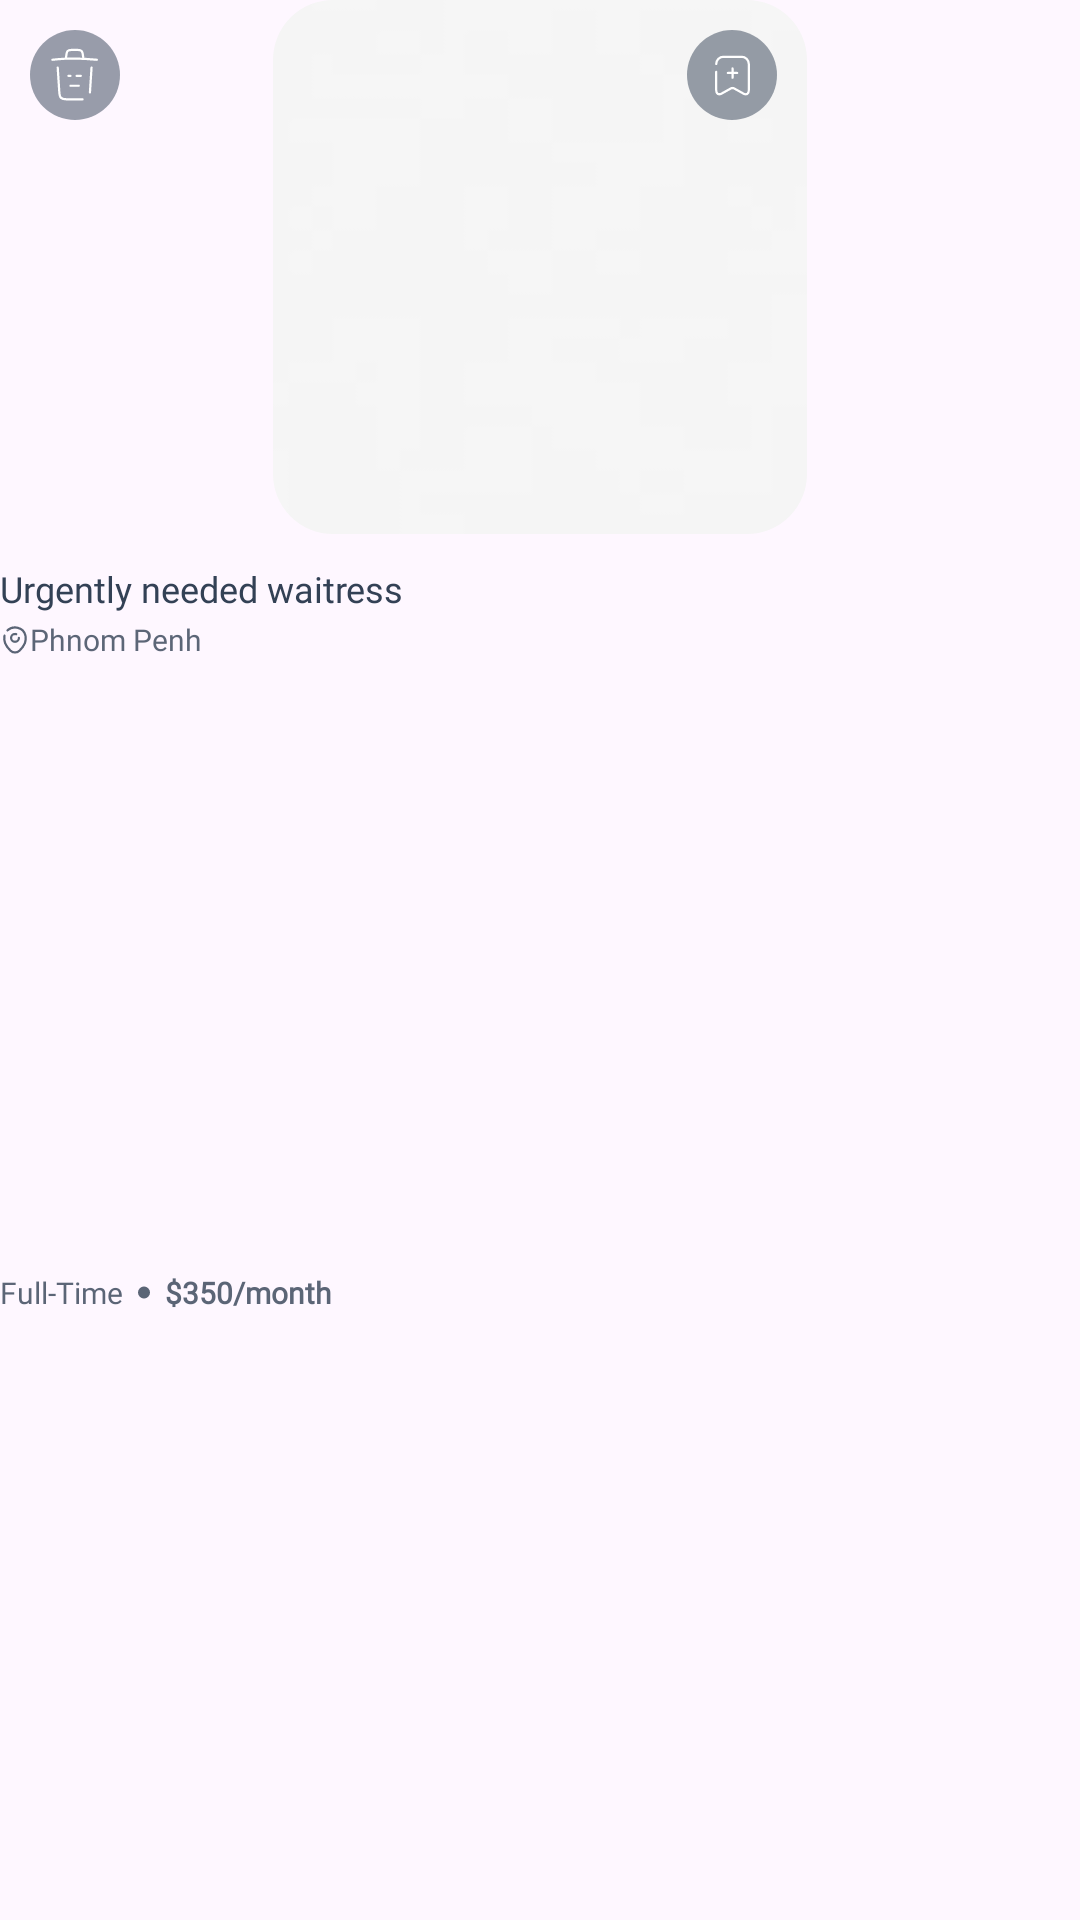

Point at icon controls on the screen. Image size 1080x1920, points as (x=x, y=y).
custom bookmarks: (x=732, y=75)
location: (x=15, y=640)
trash: (x=75, y=75)
